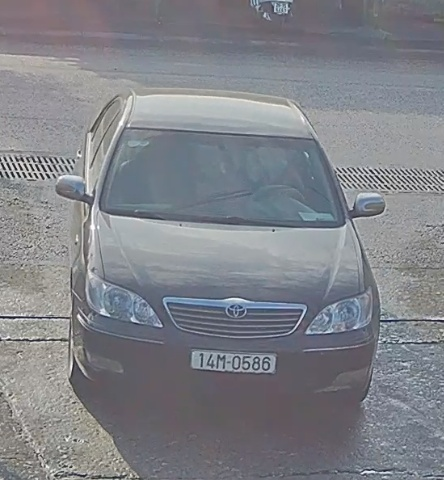vehicle plate: (185, 342, 280, 378)
